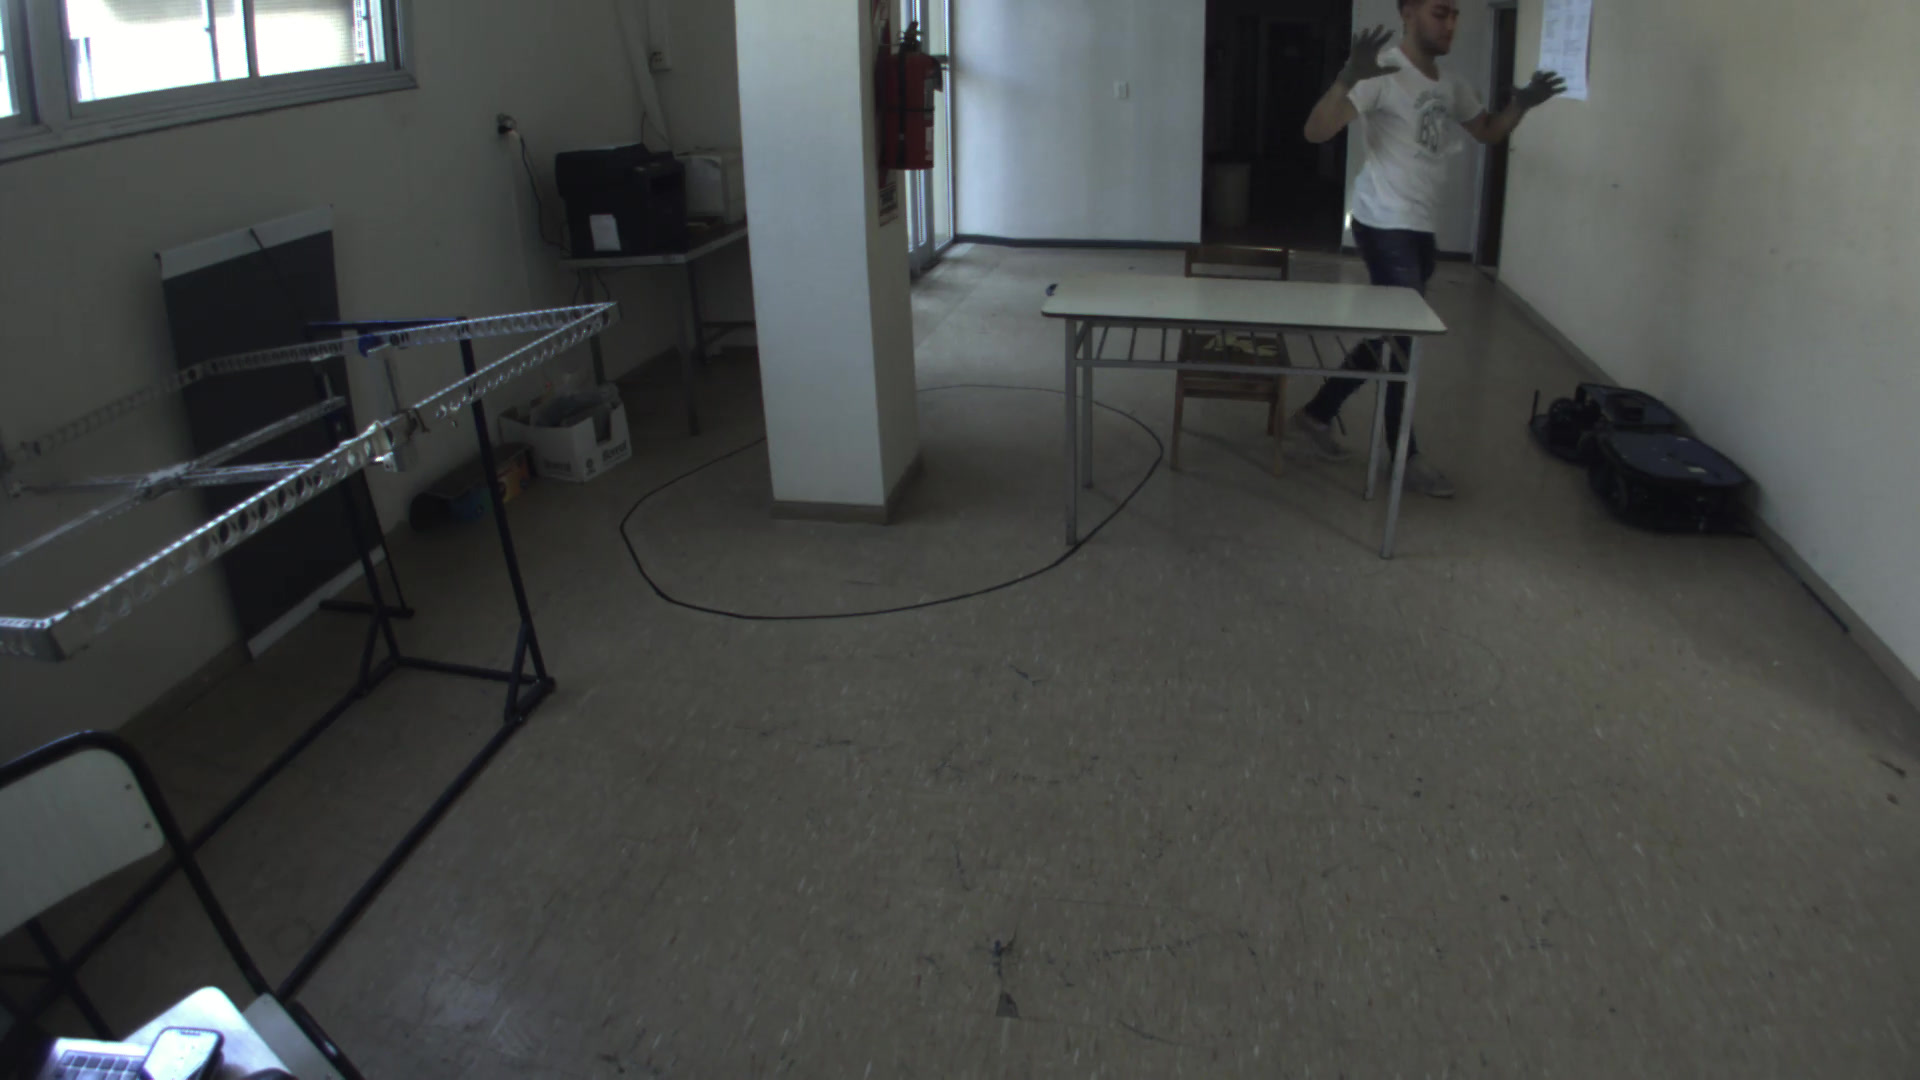hand: (1323, 17, 1407, 95), (1498, 65, 1578, 120)
